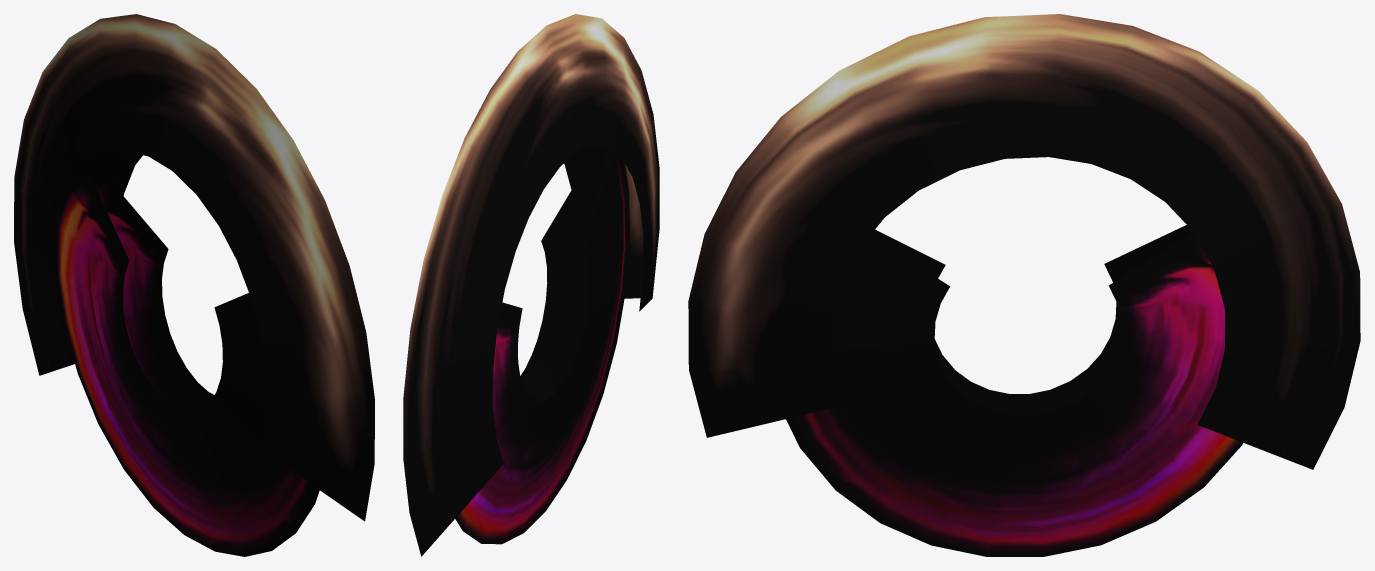
File: attack_3.FBX
3 renders of one model, left to right at view 1: azimuth 30°, elevation 25°; view 2: azimuth 150°, elevation 25°; view 3: azimuth 270°, elevation 25°, orthographic. The views are drawn at different scales.
Parts seen in each view (by area): view 1: attack_3; view 2: attack_3; view 3: attack_3.
Boxes of the visible parts, left/top/right/bottom form: attack_3: left=14, top=14, right=374, bottom=556; attack_3: left=403, top=14, right=659, bottom=556; attack_3: left=688, top=14, right=1360, bottom=556.
Size of the model in its own units: 0.7791 by 3.96 by 4.44.
2 materials, 2 textured.
